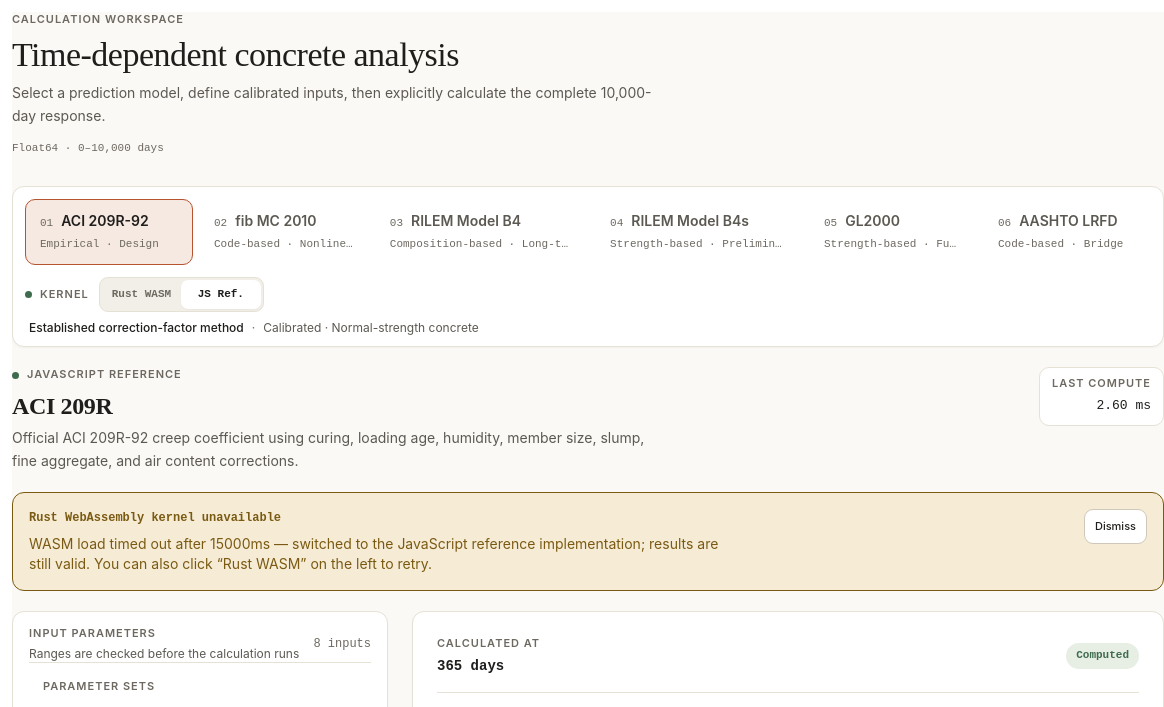
Test: kernel load failure › the notice is dismissible and the user can retry the Rust kernel
The image size is (1164, 707).
Expected: the message is shown, [12,492,1163,592]
Click the button "Dismiss" at (1116, 526), box [1084,509,1147,544]
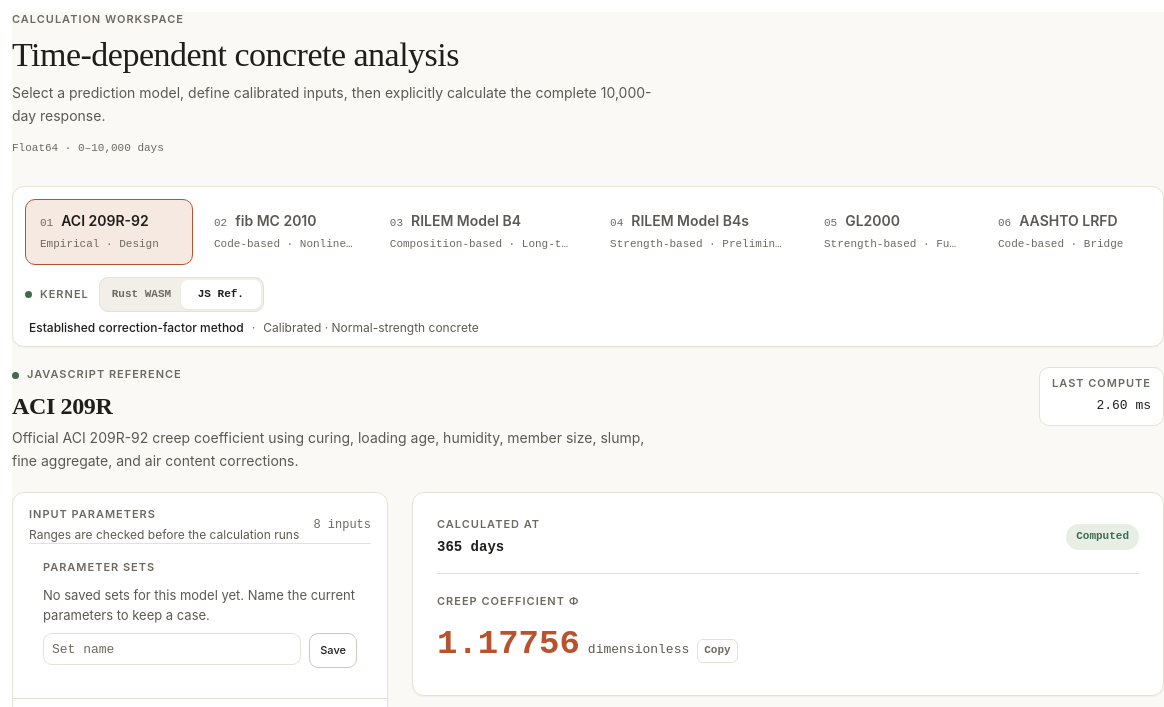
Result: the message is gone
Click the button "Rust WASM" at (142, 295), box [102,280,181,309]
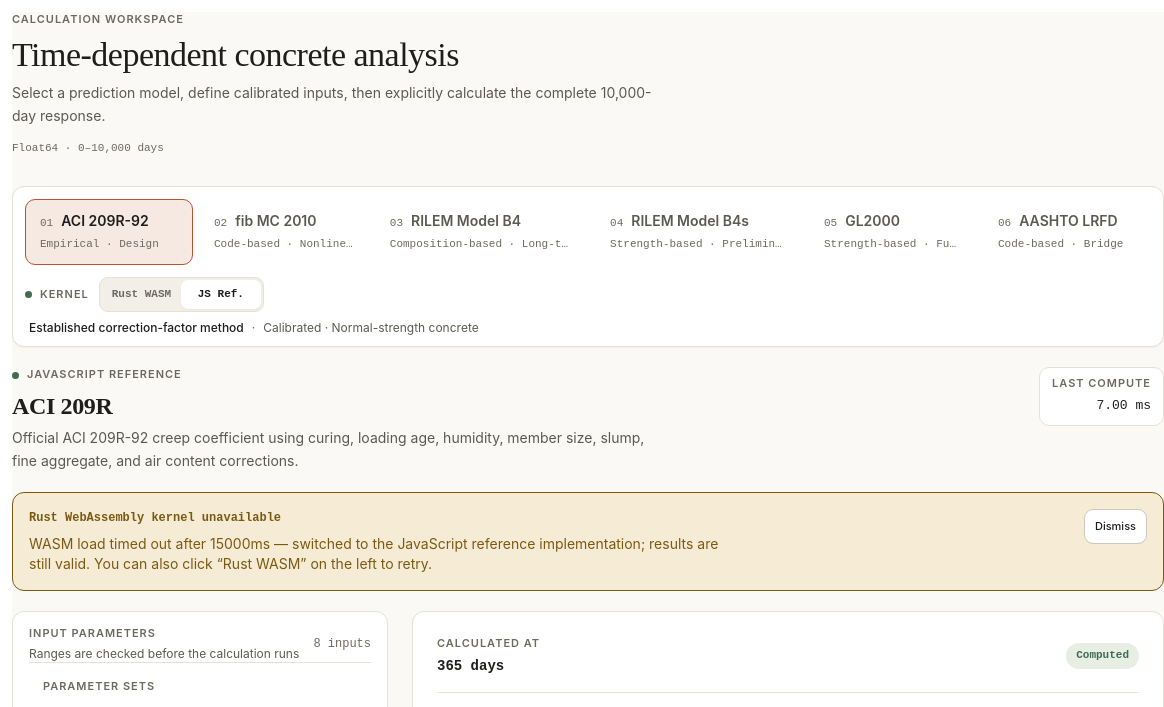
Result: the message is shown at [12,492,1163,592]
